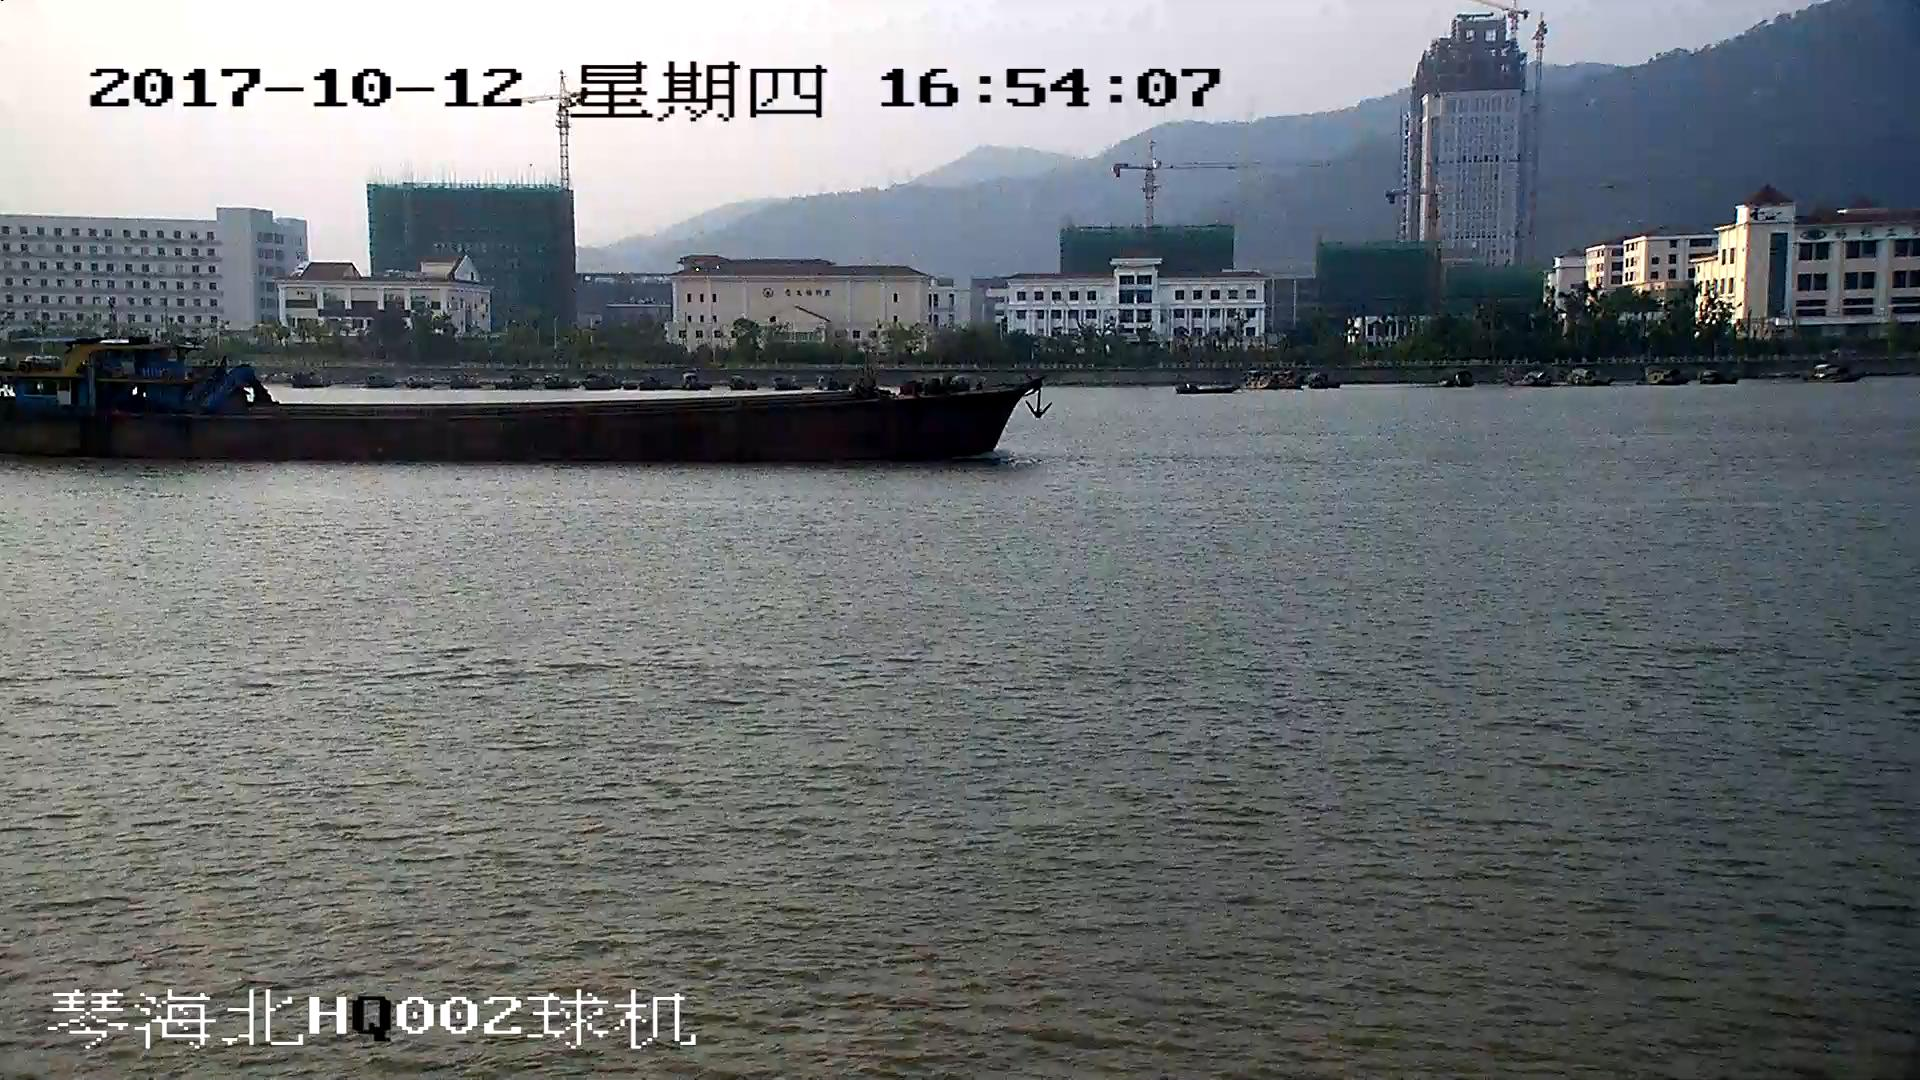bulk cargo carrier: (1, 348, 1041, 457)
